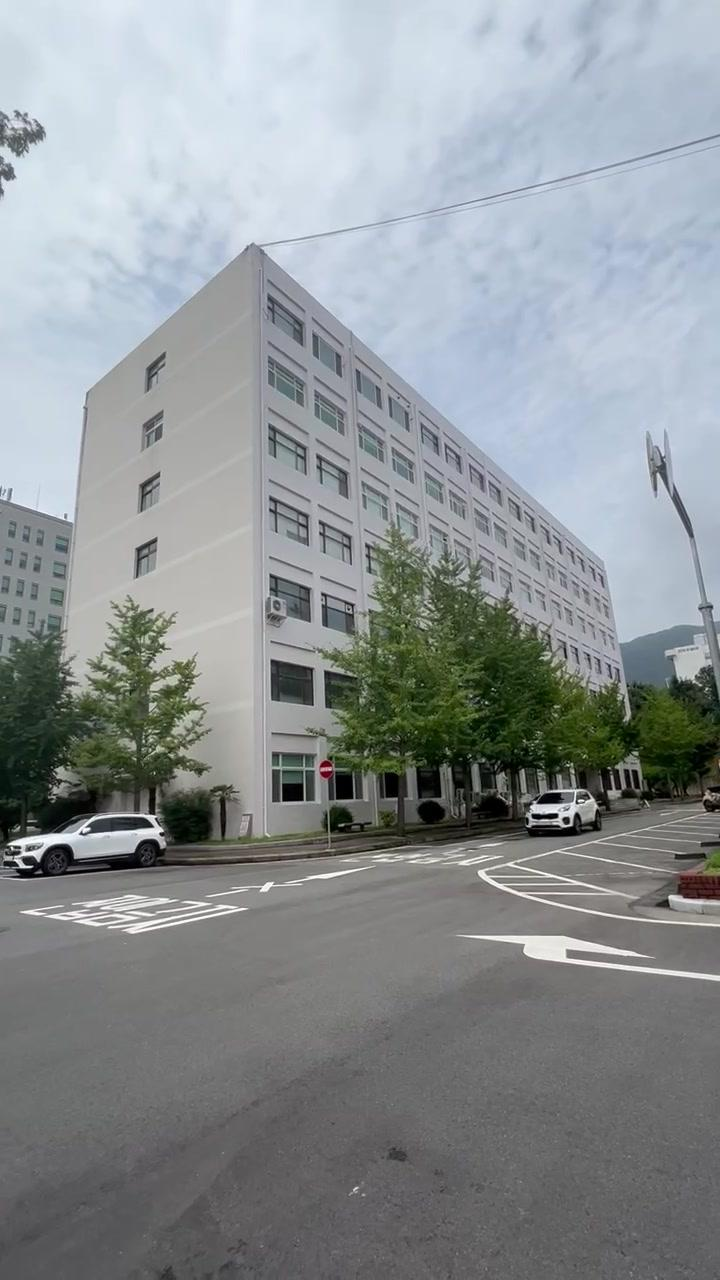building: (80, 270, 388, 618)
